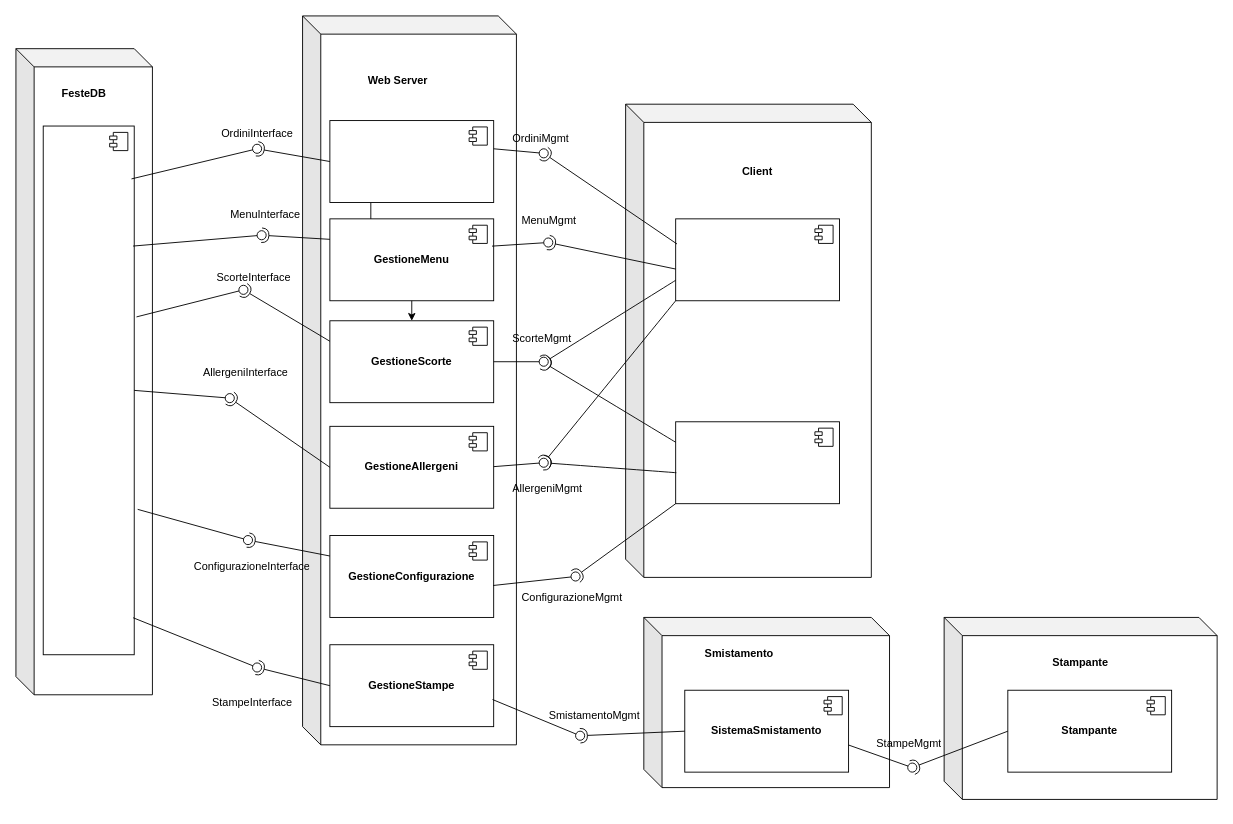
Image size: 1233x824. Some labels were removed from this diagram. The box of each missing label's shape, as (x1, y1, x2, y2) in pixels:
Database: (42, 125, 134, 655)
GestioneOrdini: (329, 120, 494, 202)
WebAppBackOffice: (675, 421, 839, 504)
WebAppCassa: (675, 218, 839, 301)
